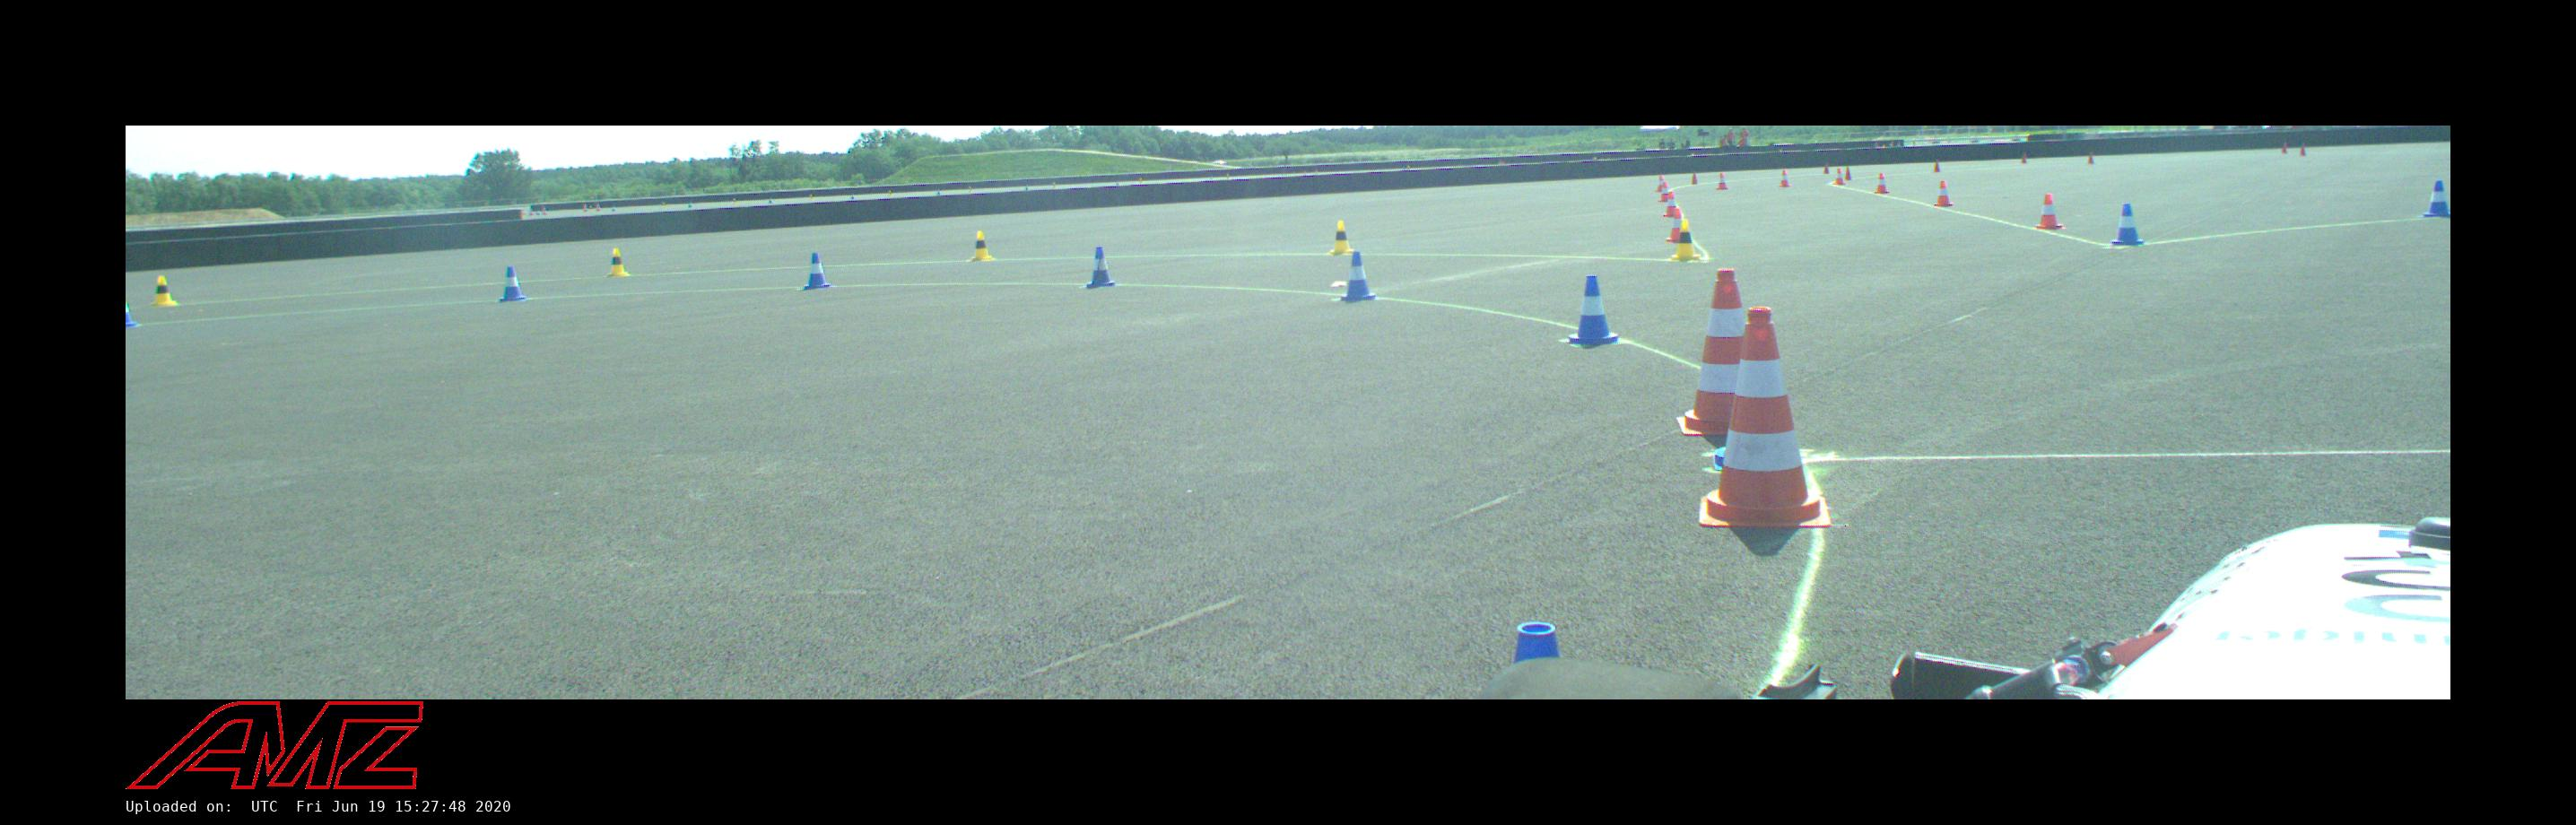blue_cone: (1566, 274, 1621, 347), (1336, 251, 1378, 301), (1515, 621, 1559, 662), (2111, 202, 2144, 247), (1083, 247, 1117, 288), (2417, 179, 2449, 219), (803, 251, 831, 289), (498, 266, 526, 302), (125, 296, 138, 327)
large_orange_cone: (1699, 307, 1830, 528), (1676, 268, 1778, 436)
orange_cone: (2034, 194, 2065, 230), (1666, 209, 1690, 243), (1934, 181, 1955, 207), (1663, 191, 1682, 219), (1875, 173, 1889, 194), (1658, 182, 1672, 202), (1832, 169, 1847, 186), (1717, 173, 1730, 191), (1656, 174, 1667, 192), (1779, 171, 1791, 187)
yellow_cone: (1671, 220, 1700, 261), (1329, 220, 1355, 255), (968, 230, 994, 261), (153, 276, 179, 306), (608, 248, 631, 276)
